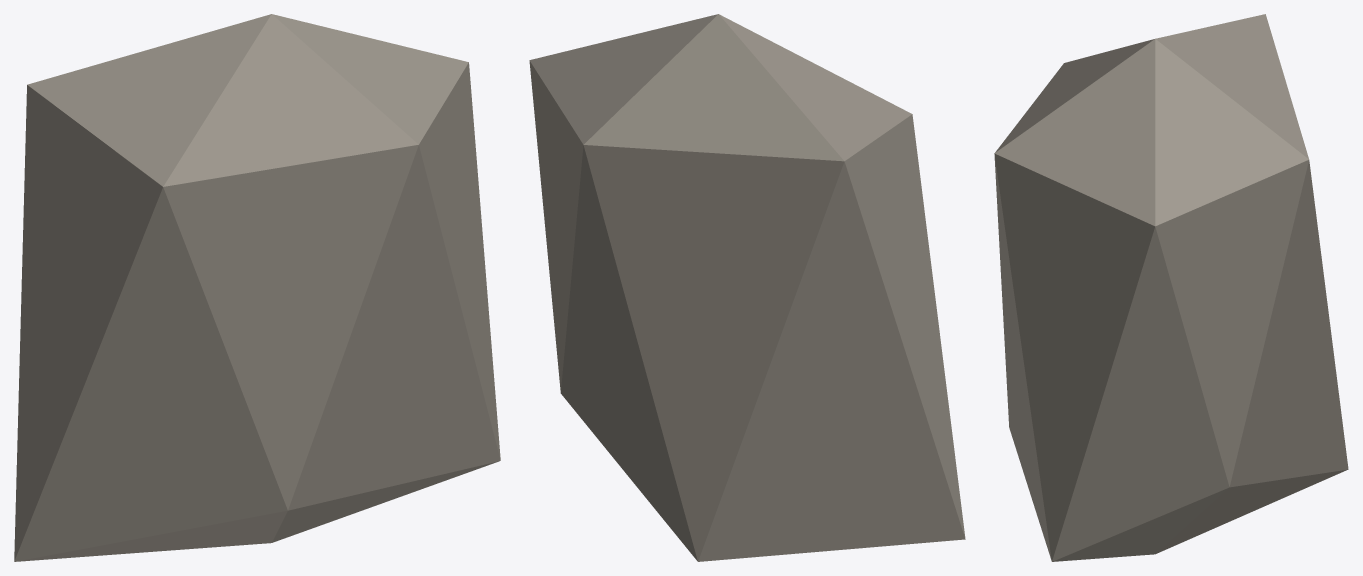
The model's file is HS_LP_Rock_Cliff_01.fbx.
3 views of the same model, side by side, from view 1: azimuth 30°, elevation 25°; view 2: azimuth 150°, elevation 25°; view 3: azimuth 270°, elevation 25° (orthographic). The views are drawn at different scales.
Parts seen in each view (by area): view 1: HS_LP_Rock_Cliff_01; view 2: HS_LP_Rock_Cliff_01; view 3: HS_LP_Rock_Cliff_01.
Part boxes in pixels (x1,y1,x2,y2): HS_LP_Rock_Cliff_01: [14, 14, 500, 561]; HS_LP_Rock_Cliff_01: [529, 14, 965, 561]; HS_LP_Rock_Cliff_01: [994, 14, 1348, 561].
Size of the model in its own units: 165 by 184 by 114.
